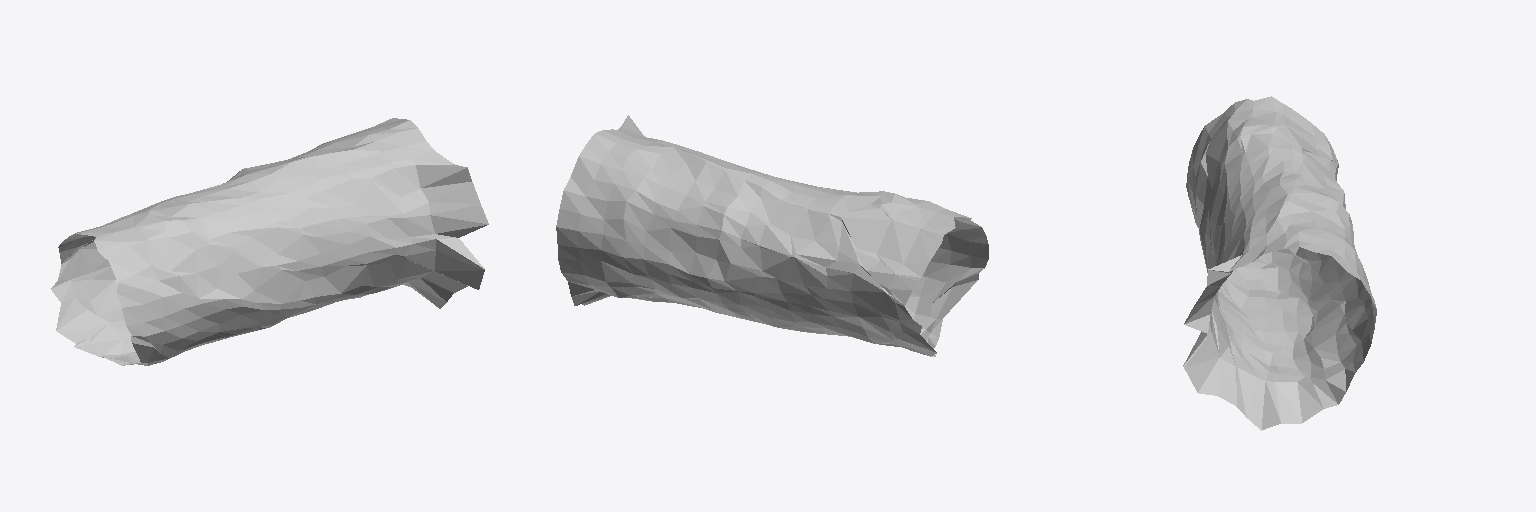
File: Tree Low Poly.obj
3 renders of one model, left to right at view 1: azimuth 30°, elevation 25°; view 2: azimuth 150°, elevation 25°; view 3: azimuth 270°, elevation 25°, orthographic.
Visible parts, largest first — view 1: Cylinder; view 2: Cylinder; view 3: Cylinder.
Part boxes in pixels (left/top/right/bottom): Cylinder: left=51, top=118, right=488, bottom=365; Cylinder: left=556, top=115, right=988, bottom=356; Cylinder: left=1183, top=96, right=1376, bottom=430.
Bounding box in the file's own units: 8.34 × 3.84 × 3.8.